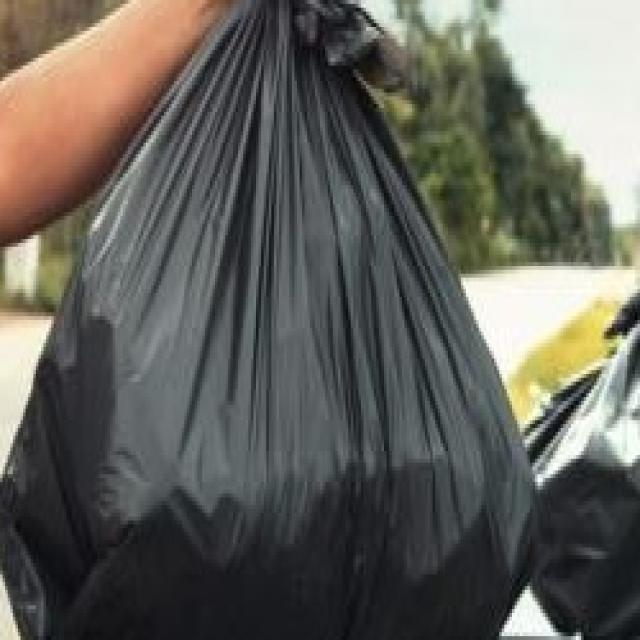Trashbag: (6, 14, 544, 640)
